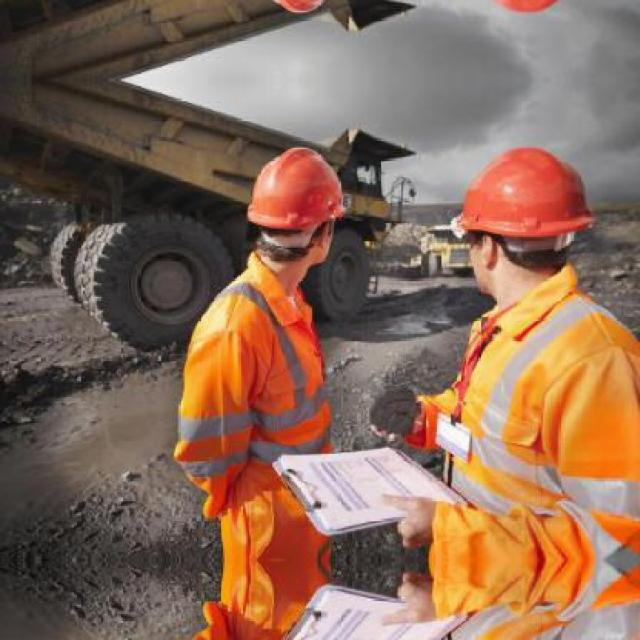Reflective-Jacket: (420, 277, 638, 612), (168, 258, 344, 491)
Safety-Helmet: (440, 138, 608, 254), (232, 140, 362, 243)
